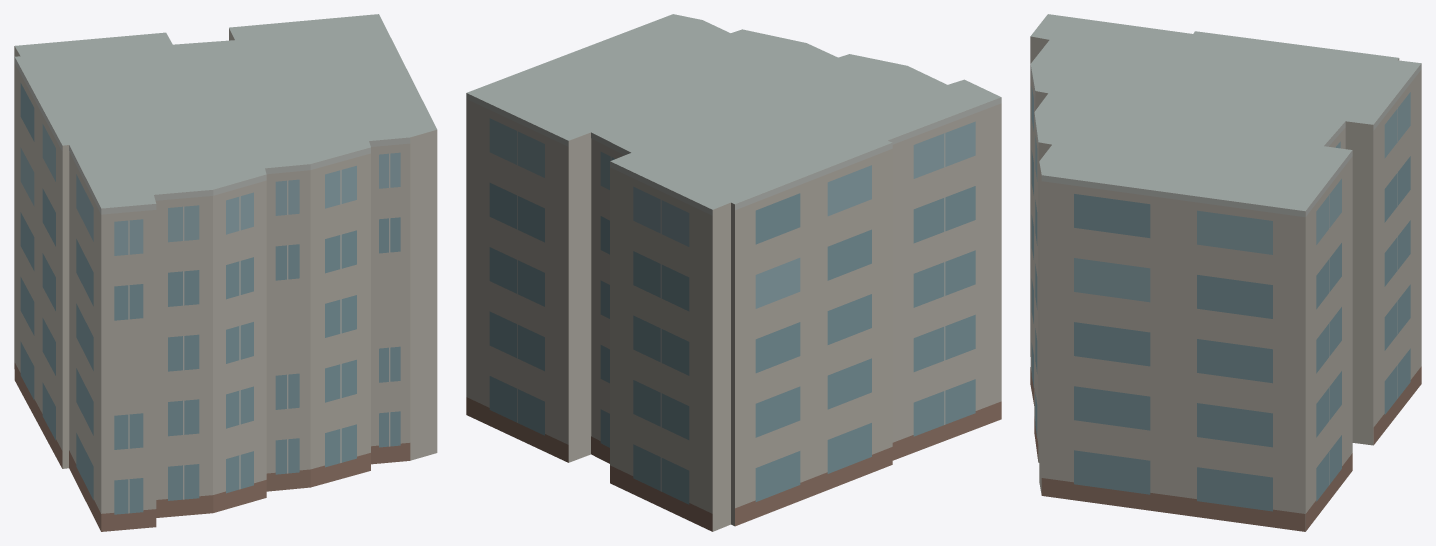
File: survey-upis-32663505.glb
3 renders of one model, left to right at view 1: azimuth 30°, elevation 25°; view 2: azimuth 150°, elevation 25°; view 3: azimuth 270°, elevation 25°, orthographic.
Visible parts, largest first — view 1: survey-upis-32663505.tmp; view 2: survey-upis-32663505.tmp; view 3: survey-upis-32663505.tmp.
Boxes of the visible parts, <box> form: survey-upis-32663505.tmp: <box>14,14,437,531</box>; survey-upis-32663505.tmp: <box>466,14,1001,531</box>; survey-upis-32663505.tmp: <box>1030,14,1421,531</box>.
Bounding box in the file's own units: 17.16 × 13 × 14.39.
